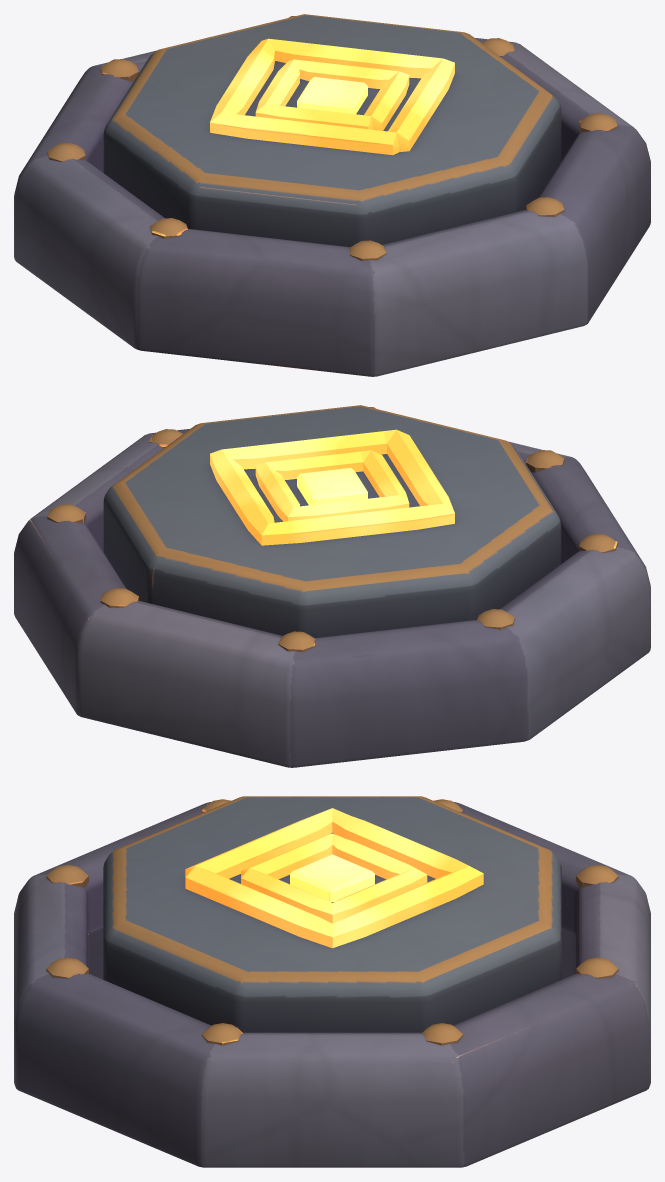
Rendered from EF_G03_FurnacePlate.fbx.
3 views of the same model, one above another, from view 1: azimuth 30°, elevation 25°; view 2: azimuth 150°, elevation 25°; view 3: azimuth 270°, elevation 25° (orthographic). The views are drawn at different scales.
Parts seen in each view (by area): view 1: Base, Plate, Emblem; view 2: Base, Plate, Emblem; view 3: Base, Plate, Emblem.
Part boxes in pixels (bbox=[...]): Base: bbox=[14, 16, 650, 376]; Plate: bbox=[103, 14, 561, 246]; Emblem: bbox=[210, 38, 454, 155]; Base: bbox=[14, 407, 650, 767]; Plate: bbox=[103, 405, 561, 637]; Emblem: bbox=[210, 429, 454, 545]; Base: bbox=[14, 799, 650, 1167]; Plate: bbox=[103, 796, 561, 1032]; Emblem: bbox=[185, 808, 483, 948].
Bounding box in the file's own units: 1 × 0.294 × 1.
